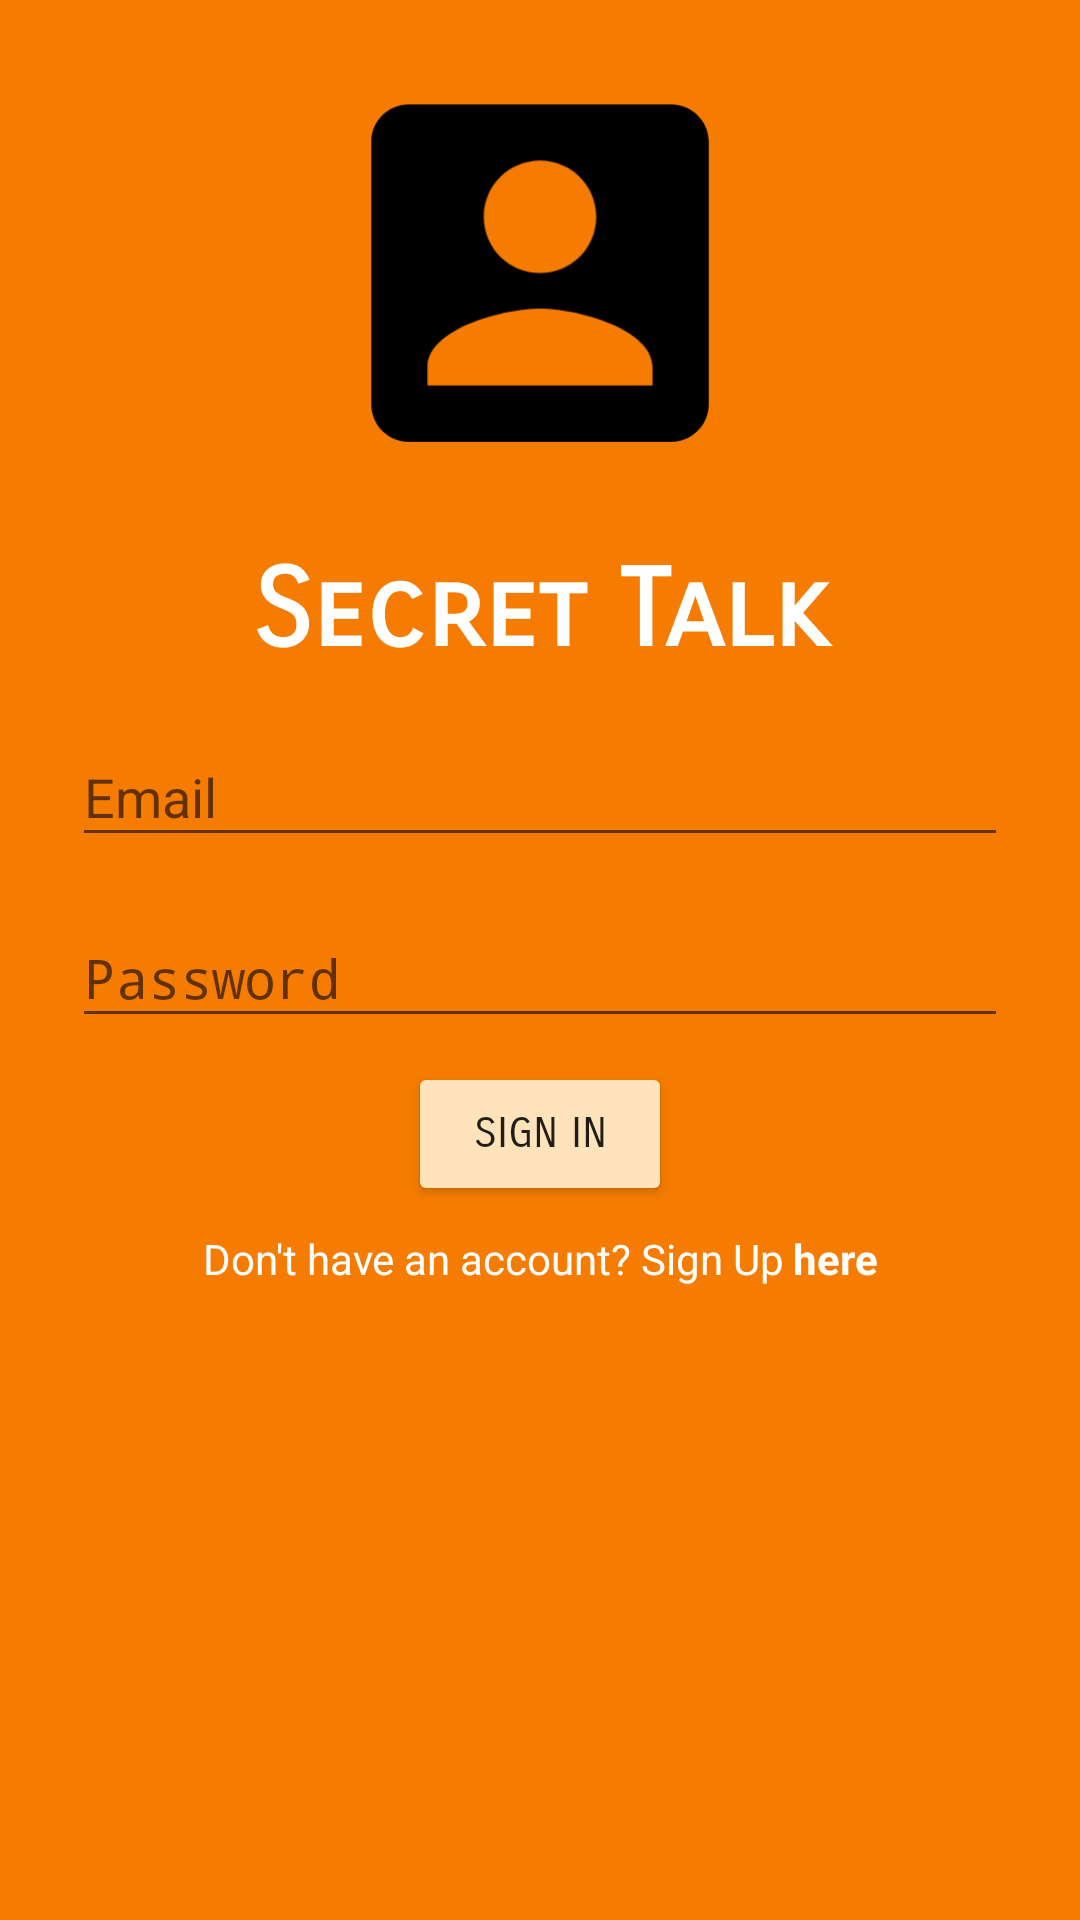

Screen size 1080px×1920px. Icon name, then its box in pixels as (x1, y1, x2, y2):
account box: (371, 104, 709, 442)
